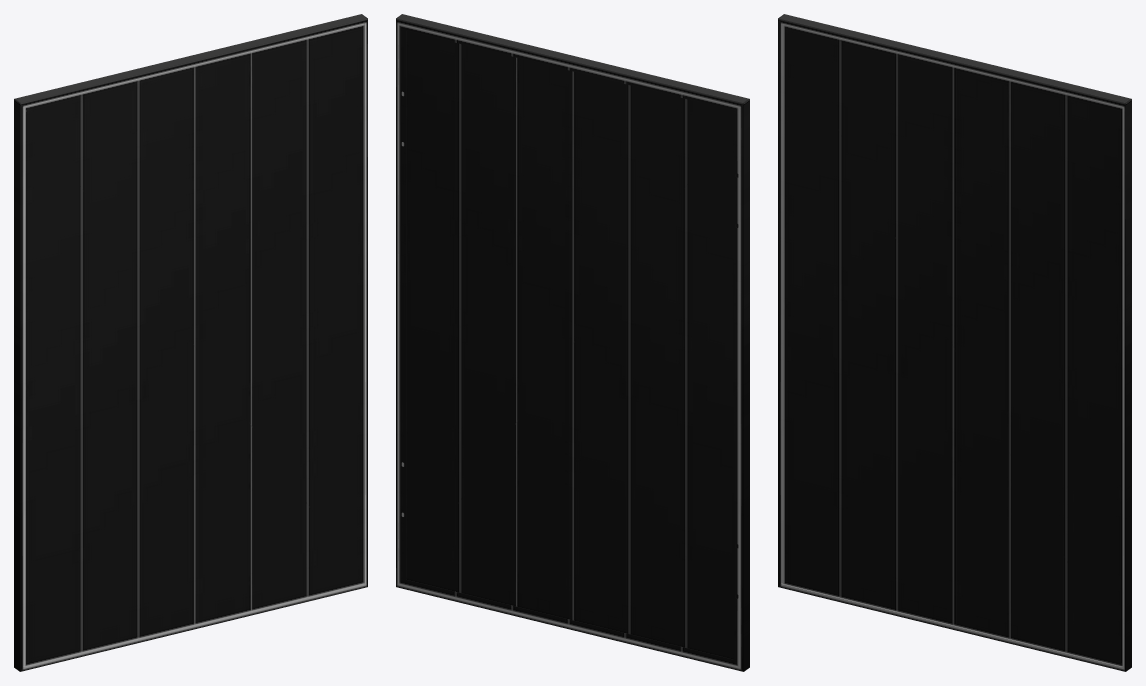
Rendered from pvpanel20.glb.
3 views of the same model, side by side, from view 1: azimuth 30°, elevation 25°; view 2: azimuth 150°, elevation 25°; view 3: azimuth 330°, elevation 25° (orthographic).
Visible parts, largest first — view 1: Aurinkopaneeli 1755 x 1038 x 35 v15; view 2: Aurinkopaneeli 1755 x 1038 x 35 v15; view 3: Aurinkopaneeli 1755 x 1038 x 35 v15.
Boxes of the visible parts, x1,y1,x2,y2 form: Aurinkopaneeli 1755 x 1038 x 35 v15: (14,14,367,671); Aurinkopaneeli 1755 x 1038 x 35 v15: (396,14,749,671); Aurinkopaneeli 1755 x 1038 x 35 v15: (778,14,1131,671).
Size of the model in its own units: 1.15 by 1.79 by 0.035.
Materials: 1 (1 with a texture image).
